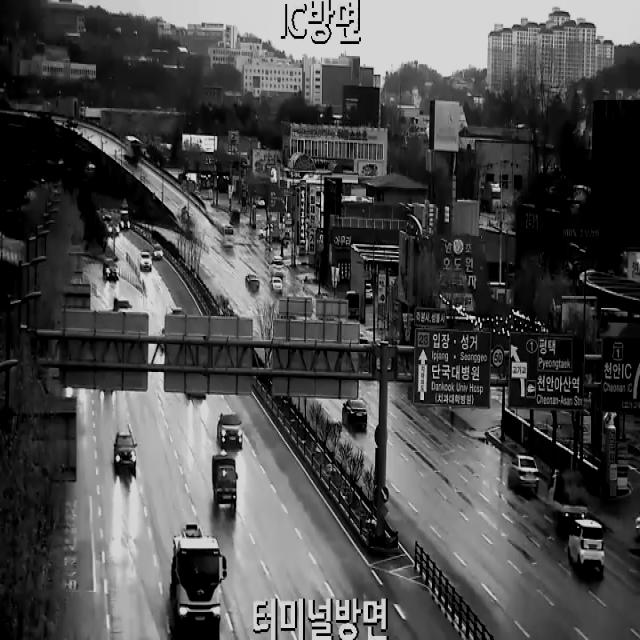Bus: (125, 135, 140, 161), (221, 225, 234, 248)
Car: (568, 520, 604, 573), (508, 453, 539, 488), (218, 412, 242, 448), (114, 432, 137, 467), (342, 399, 367, 425), (346, 290, 360, 318), (114, 297, 133, 313), (270, 255, 284, 276), (104, 260, 118, 279), (245, 273, 259, 288), (140, 251, 151, 269), (260, 224, 274, 238), (120, 209, 130, 228), (270, 278, 282, 291), (108, 223, 120, 236), (160, 328, 166, 352), (153, 244, 162, 259), (366, 283, 373, 302), (167, 308, 184, 315), (635, 512, 640, 534), (256, 195, 264, 205)
Truck: (170, 524, 227, 623), (547, 469, 588, 519), (212, 454, 237, 508)
